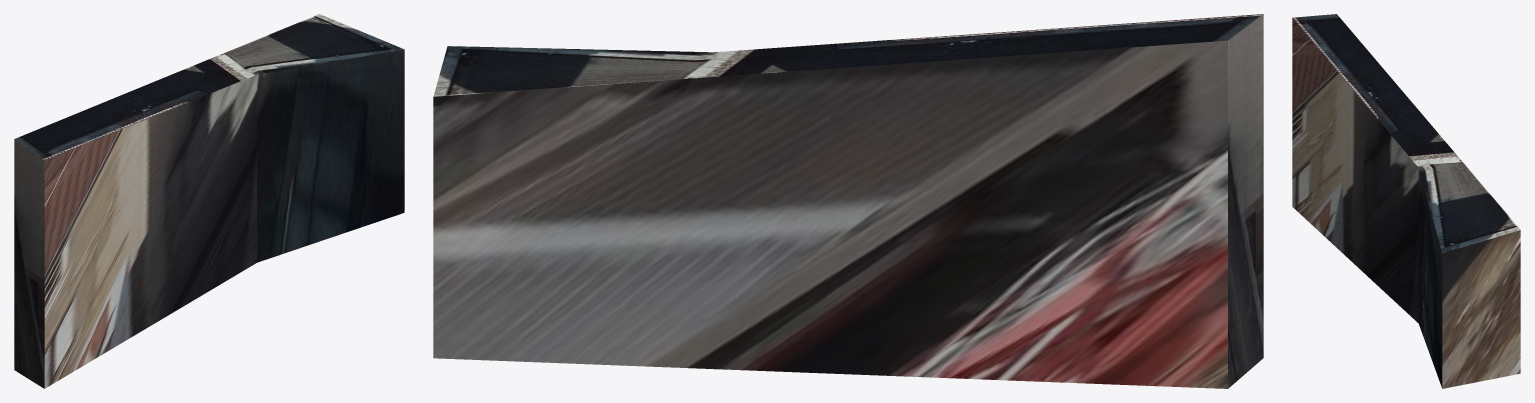
3 views of the same model, side by side, from view 1: azimuth 30°, elevation 25°; view 2: azimuth 150°, elevation 25°; view 3: azimuth 270°, elevation 25° (orthographic). The views are drawn at different scales.
Visible parts, largest first — view 1: Z_UP; view 2: Z_UP; view 3: Z_UP.
Part boxes in pixels (x1,y1,x2,y2): Z_UP: (14,14,404,388); Z_UP: (433,14,1263,388); Z_UP: (1292,14,1520,388).
Size of the model in its own units: 23.52 by 11.44 by 12.36.
Materials: 2 (1 with a texture image).
